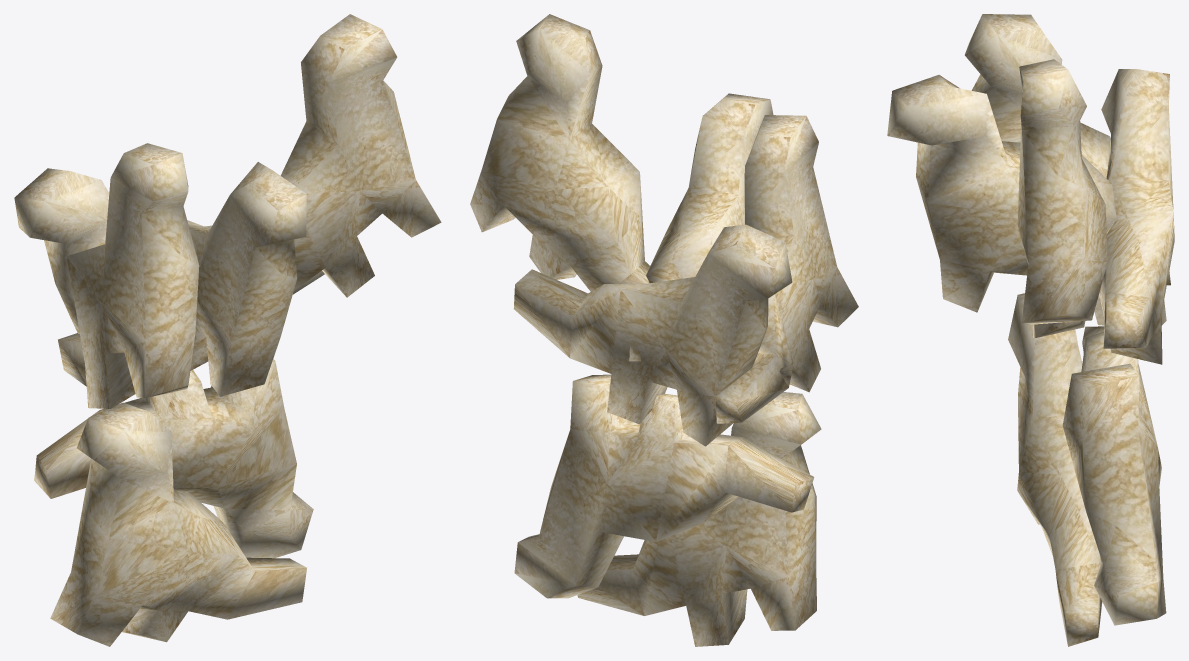
The model's file is DinoNuggetsInHolder.fbx.
The picture shows the model from 3 angles, left to right: view 1: azimuth 30°, elevation 25°; view 2: azimuth 150°, elevation 25°; view 3: azimuth 270°, elevation 25°; orthographic projection. The views are drawn at different scales.
Visible parts, largest first — view 1: DinoNuggetInHolder; view 2: DinoNuggetInHolder; view 3: DinoNuggetInHolder.
Part boxes in pixels (box(x1,y1,x2,y2)): DinoNuggetInHolder: box(14, 14, 441, 646); DinoNuggetInHolder: box(470, 14, 858, 646); DinoNuggetInHolder: box(887, 14, 1174, 646).
Size of the model in its own units: 15.8 by 24.11 by 10.31.
Materials: 1 (1 with a texture image).
